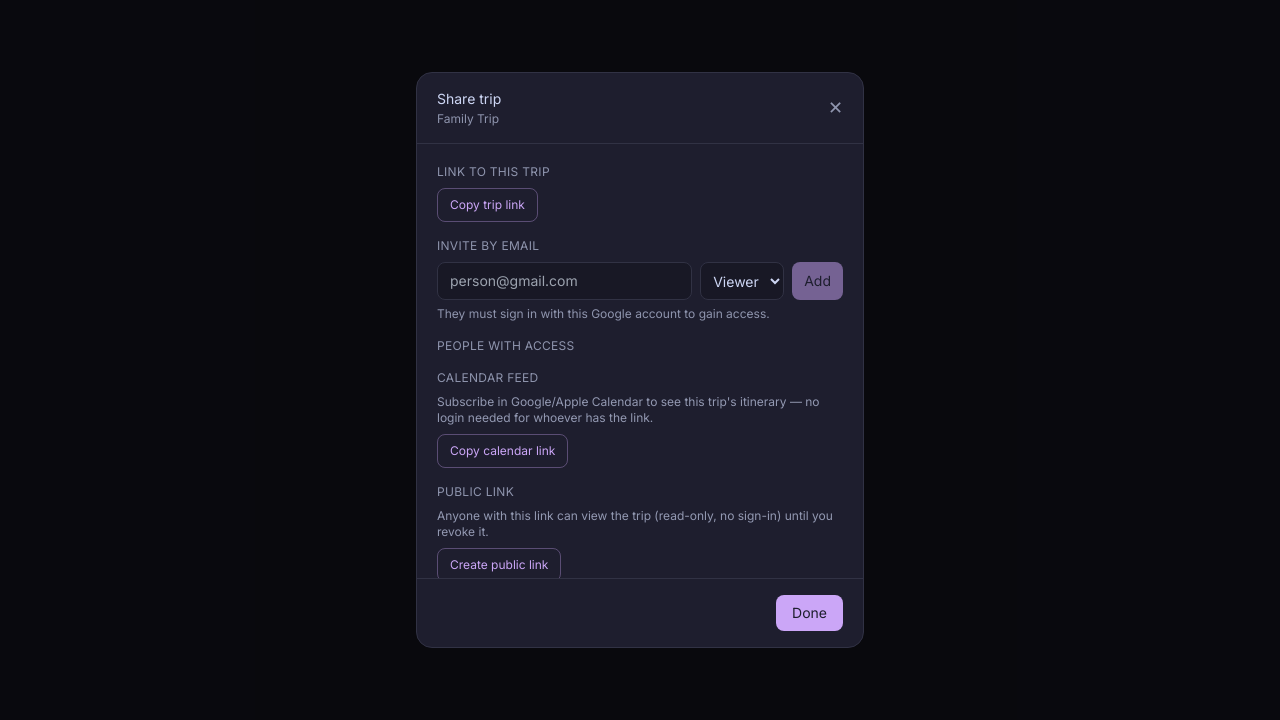
Test: ShareModal — internal trip link › copies /t/:tripId to the clipboard, distinct from the public share link
Click the button "Copy trip link" at coordinates (487, 205), box [437, 188, 538, 222]
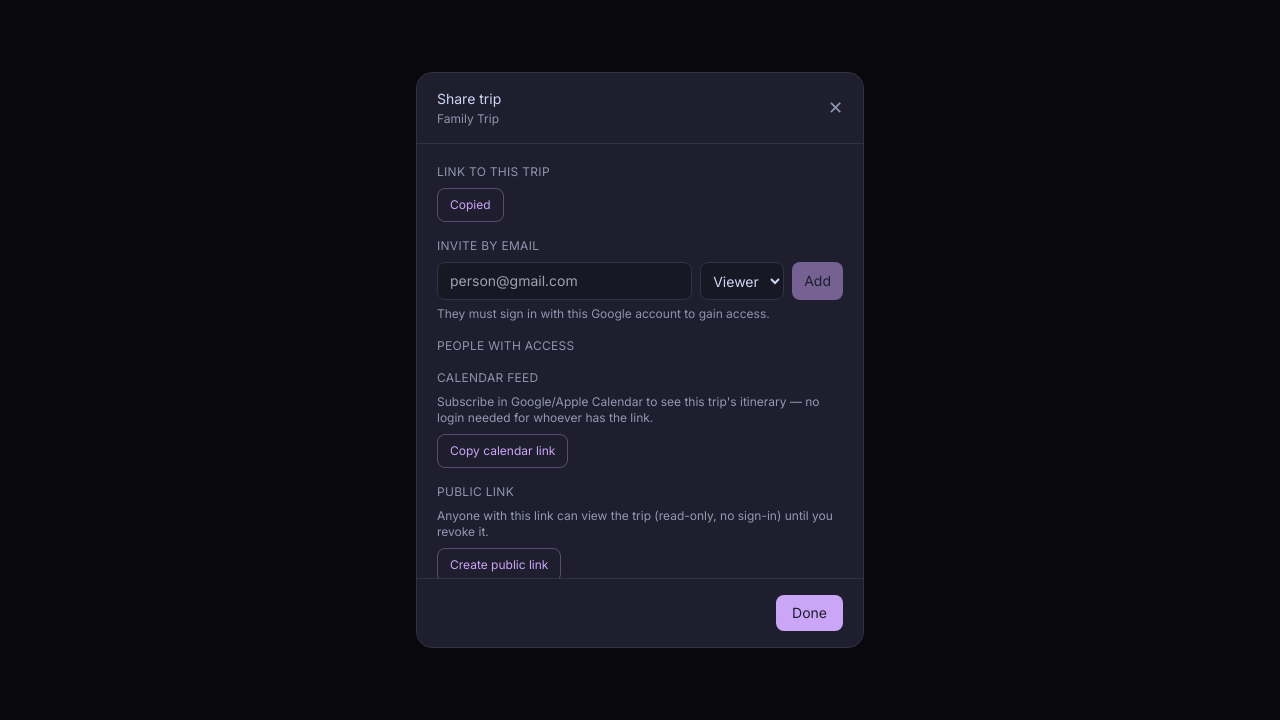
Now the button "Copied" is shown, box [437, 188, 504, 222]
